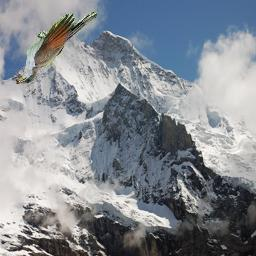Cuckoo: (17, 10, 98, 84)
